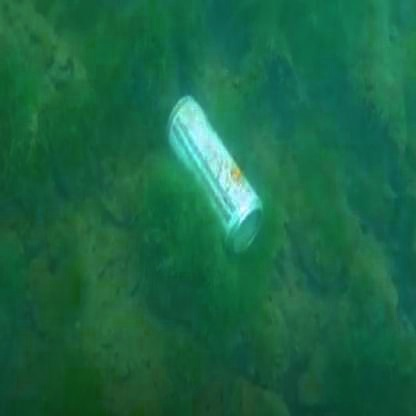can: (165, 86, 282, 254)
